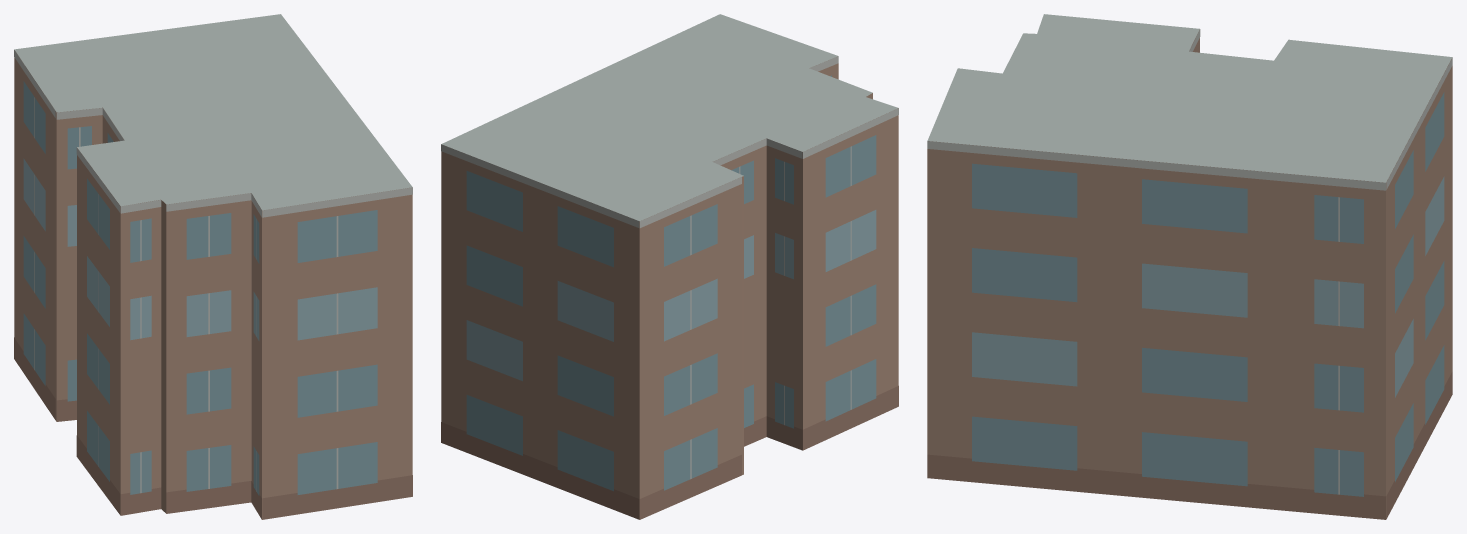
The model's file is survey-upis-32817315.glb.
The picture shows the model from 3 angles, left to right: view 1: azimuth 30°, elevation 25°; view 2: azimuth 150°, elevation 25°; view 3: azimuth 270°, elevation 25°; orthographic projection. The views are drawn at different scales.
Visible parts, largest first — view 1: survey-upis-32817315.tmp; view 2: survey-upis-32817315.tmp; view 3: survey-upis-32817315.tmp.
Part boxes in pixels (left/top/right/bottom): survey-upis-32817315.tmp: left=14, top=14, right=412, bottom=519; survey-upis-32817315.tmp: left=441, top=14, right=898, bottom=519; survey-upis-32817315.tmp: left=927, top=14, right=1452, bottom=519.
Bounding box in the file's own units: 11.06 × 10.3 × 14.55.
